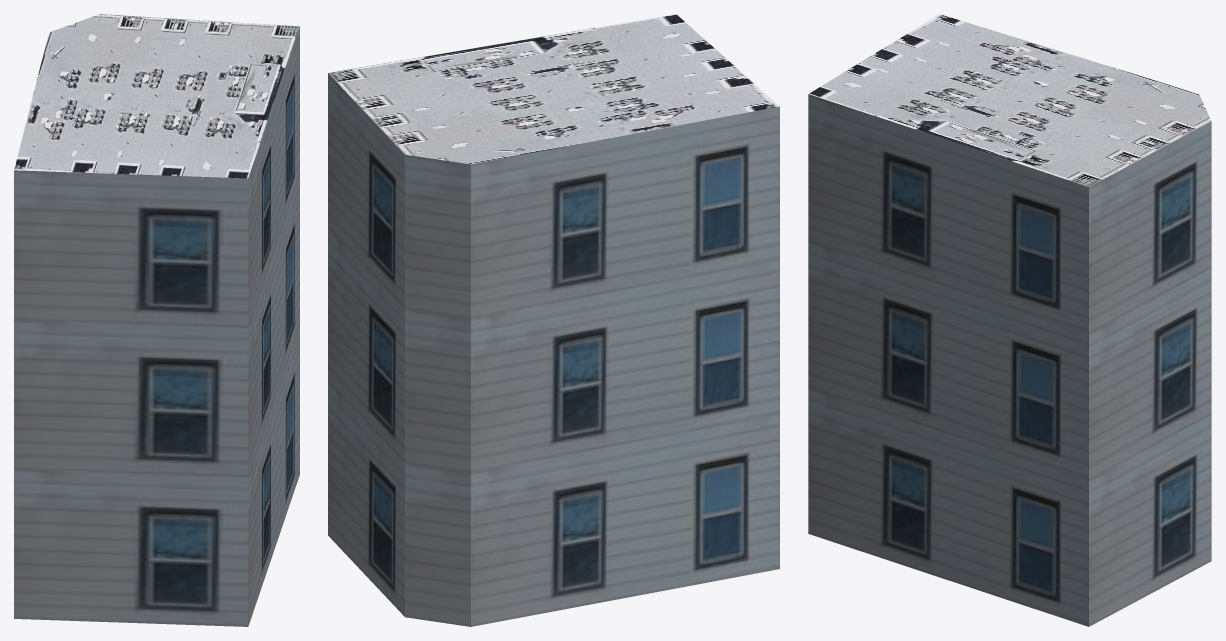
The model's file is ResTex__3886.fbx.
3 renders of one model, left to right at view 1: azimuth 30°, elevation 25°; view 2: azimuth 150°, elevation 25°; view 3: azimuth 270°, elevation 25°, orthographic. The views are drawn at different scales.
Parts seen in each view (by area): view 1: CityEngineMaterial_18_m, CityEngineMaterial_4_m; view 2: CityEngineMaterial_18_m, CityEngineMaterial_4_m; view 3: CityEngineMaterial_18_m, CityEngineMaterial_4_m.
Boxes of the visible parts, x1=… form: CityEngineMaterial_18_m: x1=14, y1=26, x2=299, y2=626; CityEngineMaterial_4_m: x1=14, y1=14, x2=299, y2=178; CityEngineMaterial_18_m: x1=328, y1=73, x2=779, y2=626; CityEngineMaterial_4_m: x1=328, y1=14, x2=779, y2=164; CityEngineMaterial_18_m: x1=808, y1=94, x2=1211, y2=626; CityEngineMaterial_4_m: x1=809, y1=14, x2=1211, y2=186.
Bounding box in the file's own units: 7.6 × 9 × 7.48.
2 materials, 2 textured.
